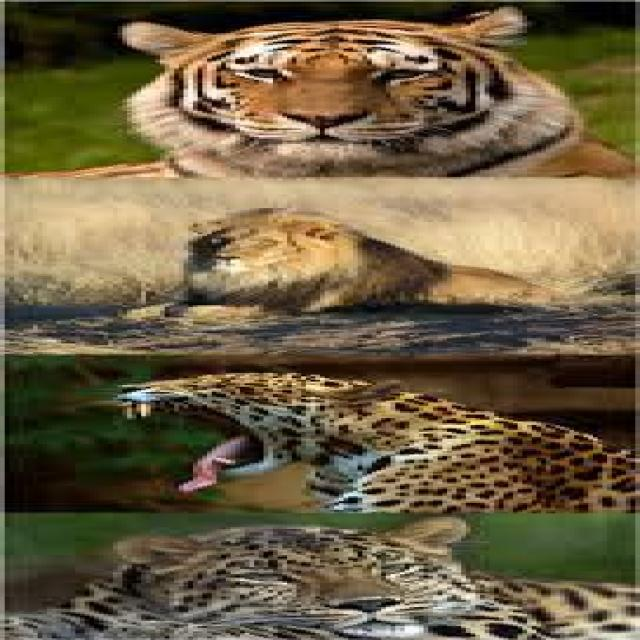Jaguar: (80, 369, 640, 512), (9, 515, 640, 640)
